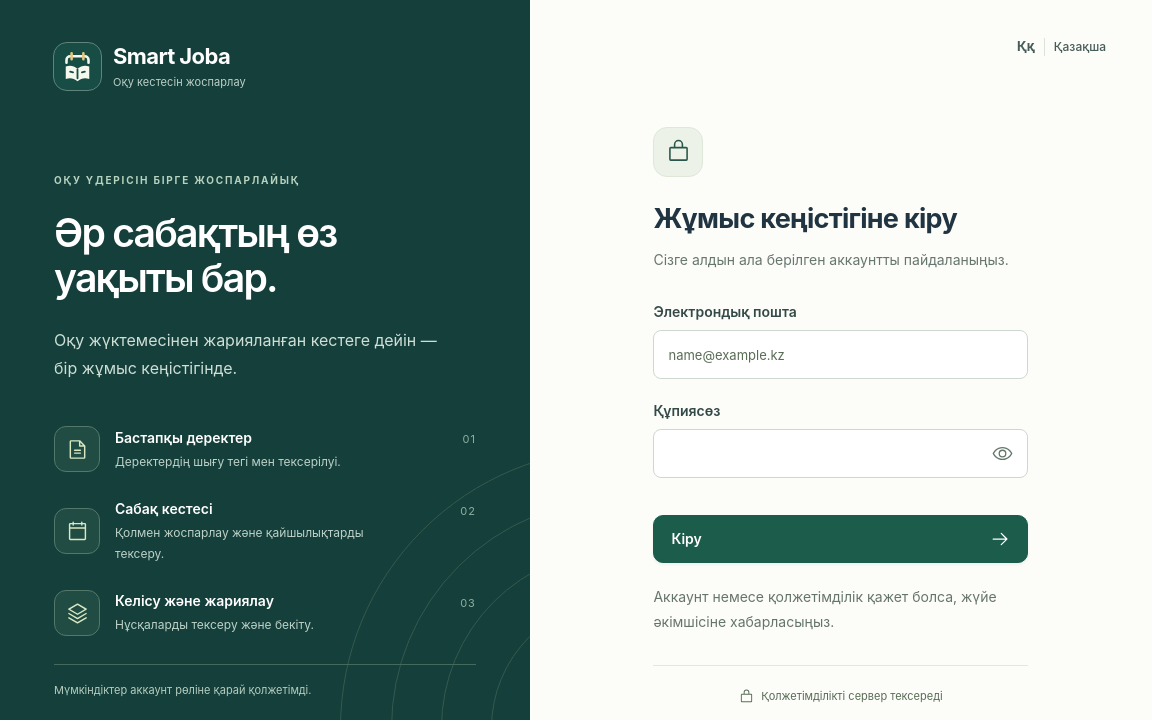
AUTH-003: prepared account sign-in › keeps email, clears password and announces the same invalid-credentials error
Type "wrong@example.test" into the field labelled "Электрондық пошта" at (841,354), box [654,330,1028,379]
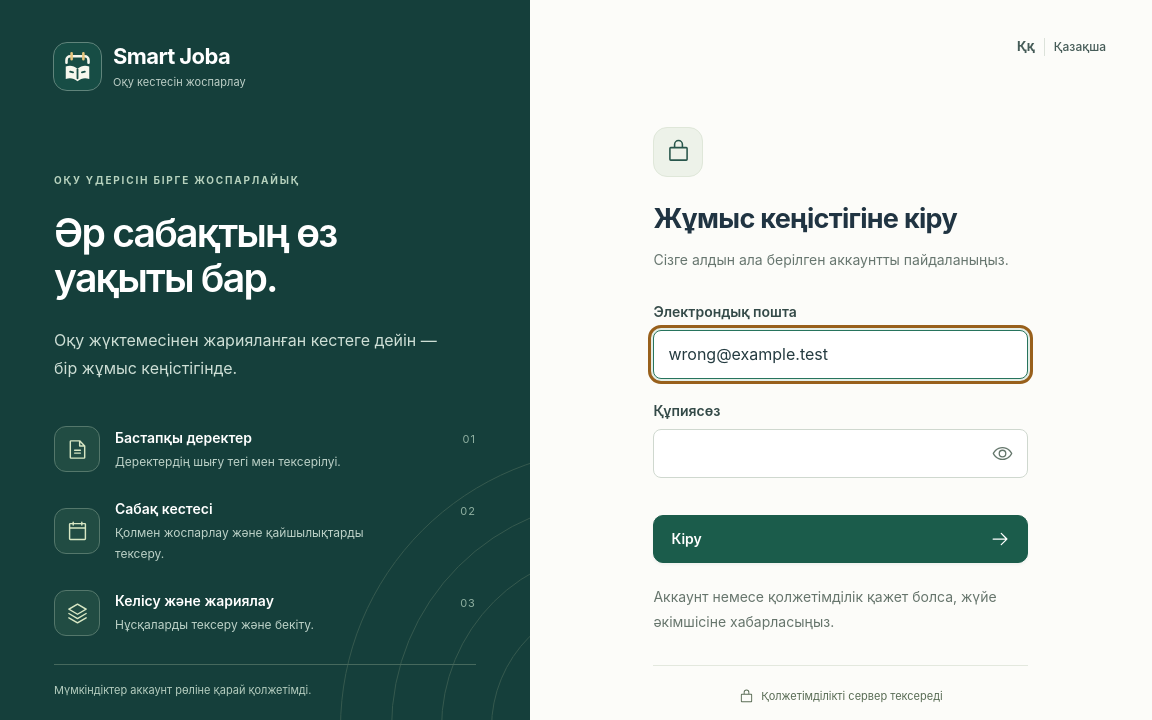
Type "a-private-password" into the password field labelled "Құпиясөз" at (841,453), box [654,429,1028,478]
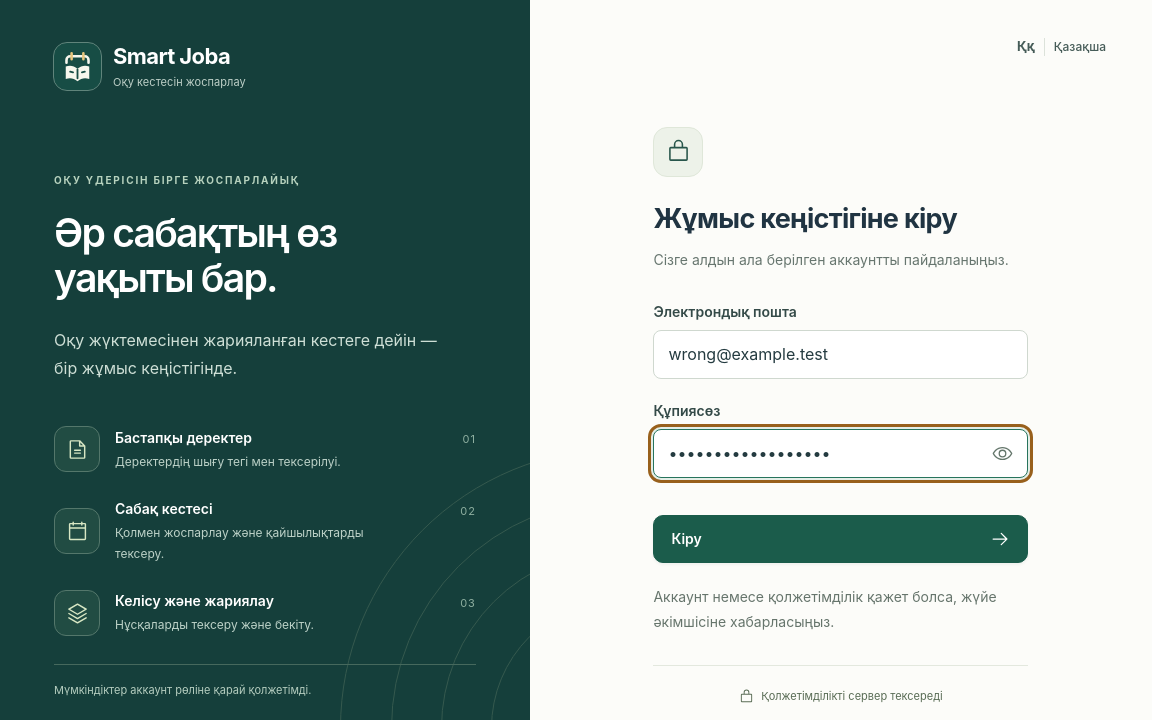
Click the button "Кіру" at (687,538), box [654,515,1028,563]
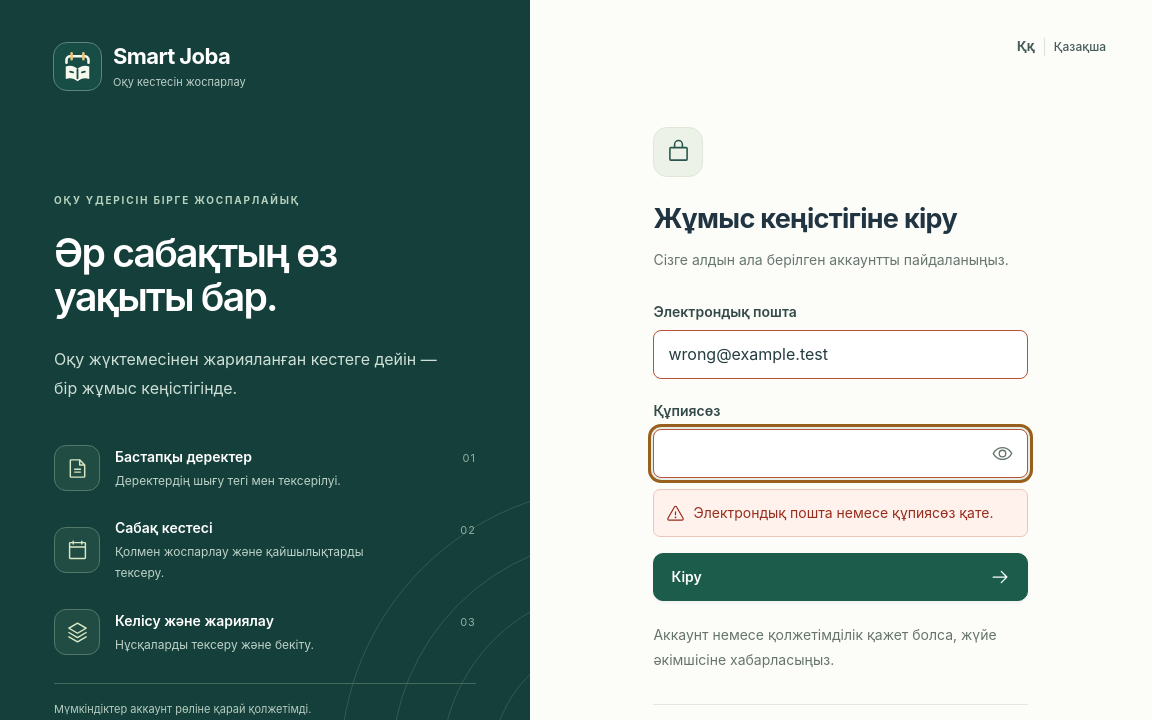
expect the text "Электрондық пошта немесе құпиясөз қате." is shown: met, box [694,502,994,524]
expect the password field labelled "Құпиясөз" is empty: met, box [654,429,1028,478]
